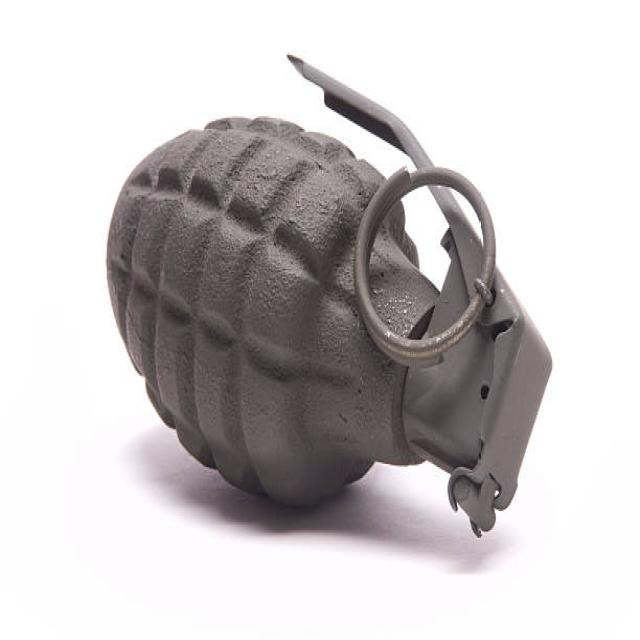grenade: (97, 47, 556, 536)
